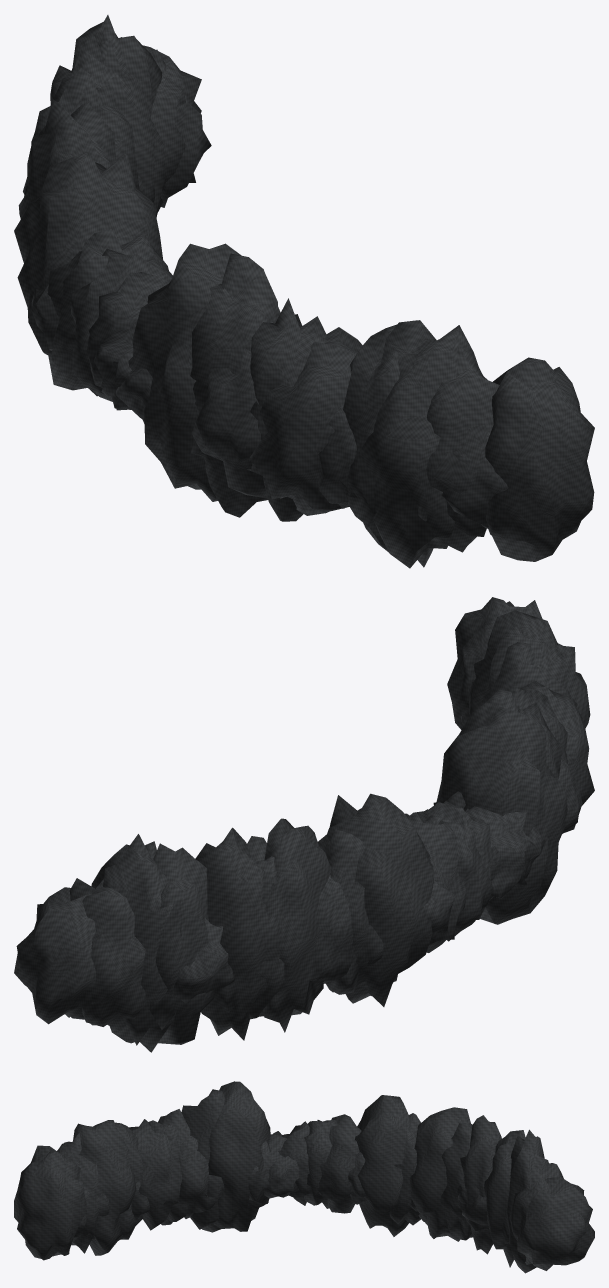
Rendered from Landscape_Basalt_2.fbx.
3 views of the same model, one above another, from view 1: azimuth 30°, elevation 25°; view 2: azimuth 150°, elevation 25°; view 3: azimuth 270°, elevation 25° (orthographic). The views are drawn at different scales.
Parts seen in each view (by area): view 1: Landscape_Basalt_2; view 2: Landscape_Basalt_2; view 3: Landscape_Basalt_2.
Part boxes in pixels (left/top/right/bottom): Landscape_Basalt_2: left=14, top=15, right=594, bottom=568; Landscape_Basalt_2: left=14, top=597, right=594, bottom=1052; Landscape_Basalt_2: left=14, top=1081, right=594, bottom=1273.
Size of the model in its own units: 51181 by 36289 by 131491.
Materials: 1 (1 with a texture image).
